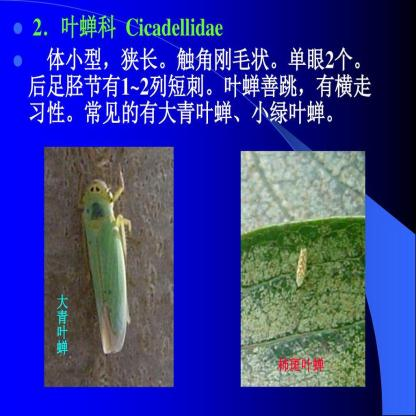Green-Leafhopper: (70, 155, 143, 357), (291, 237, 309, 294)
